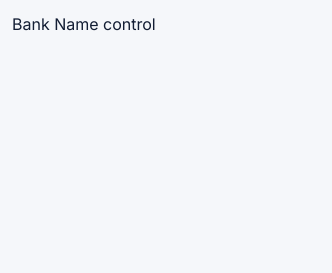
it: LockedTip accessibility — ARIA tooltip pattern for every LOCKED_FIELD › [{"field":"Bank Name","note":"Bank/account changes are blocked while the trigger rejection stands — the row itself can't be saved yet."}] focus opens tooltip, a
// Keyboard focus opens the tooltip (no pointer events needed).
Focus the element showing "Bank Name control" at coordinates (84, 24), box [12,12,156,36]
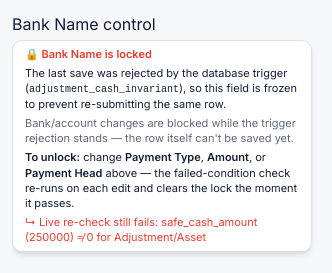
Now the text "adjustment_cash_invariant" is shown, box [29,84,179,95]
Now the text "Bank/account changes are blocked while the trigger rejection stands — the row itself can't be saved yet." is shown, box [25,116,296,145]
Now the text "To unlock:" is shown, box [25,150,80,164]
// Blurring the trigger dismisses the tooltip (Radix default).
Leave the element showing "Bank Name control", box [12,12,156,36]
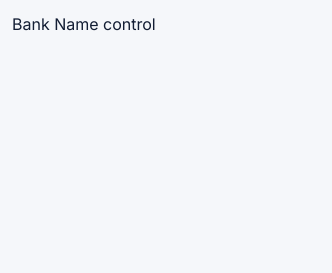
Now the tooltip "🔒 Bank Name is locked The last save was rejected by the database trigger (adjus" is gone
Focus the element showing "Bank Name control" at coordinates (84, 24), box [12,12,156,36]
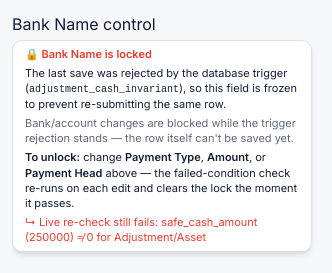
Now the tooltip is shown
Press Escape in the element showing "Bank Name control", box [12,12,156,36]
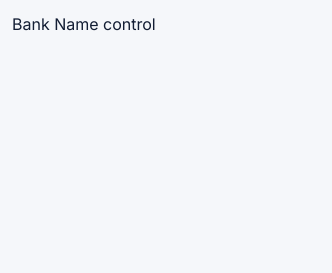
Now the tooltip "🔒 Bank Name is locked The last save was rejected by the database trigger (adjus" is gone
